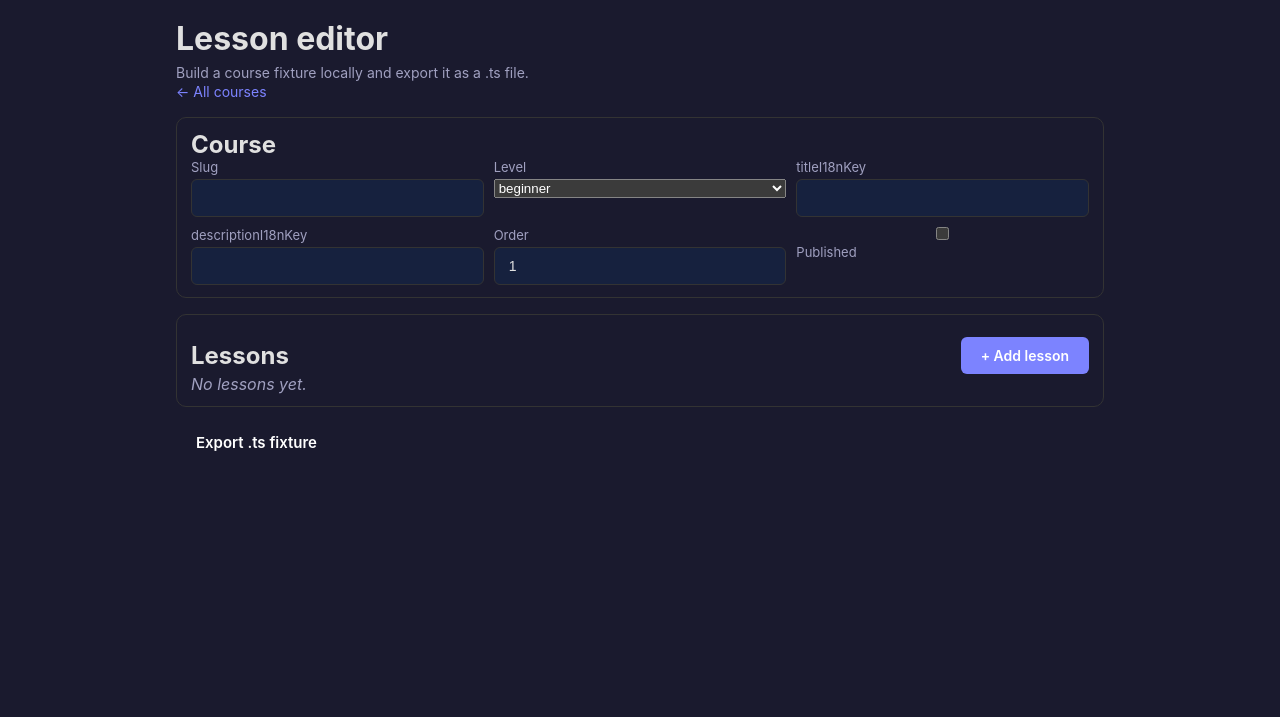
Test: <LessonEditorPage> › добавление шага → появляется StepEditor
The image size is (1280, 717).
Click the button with test id "editor-add-lesson" at (1025, 356), box [961,337,1089,374]
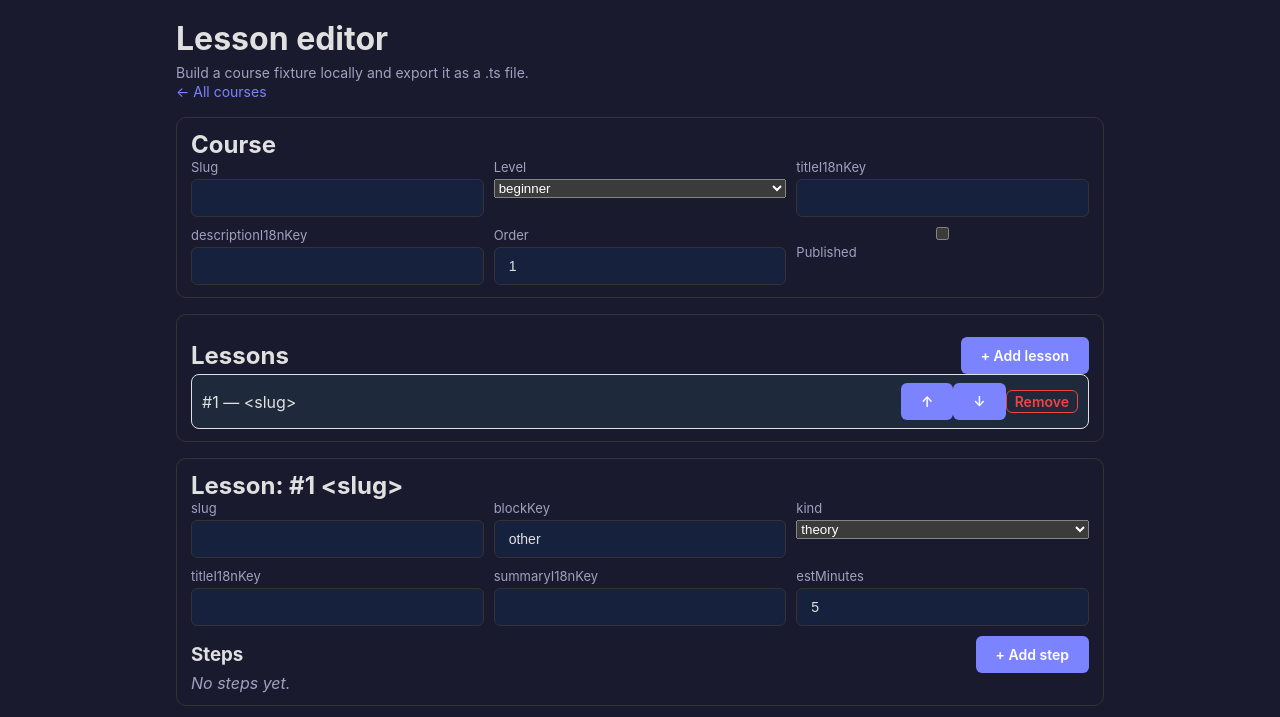
Click the button with test id "editor-add-step" at (1032, 654), box [976,636,1089,673]
(page scrolled)
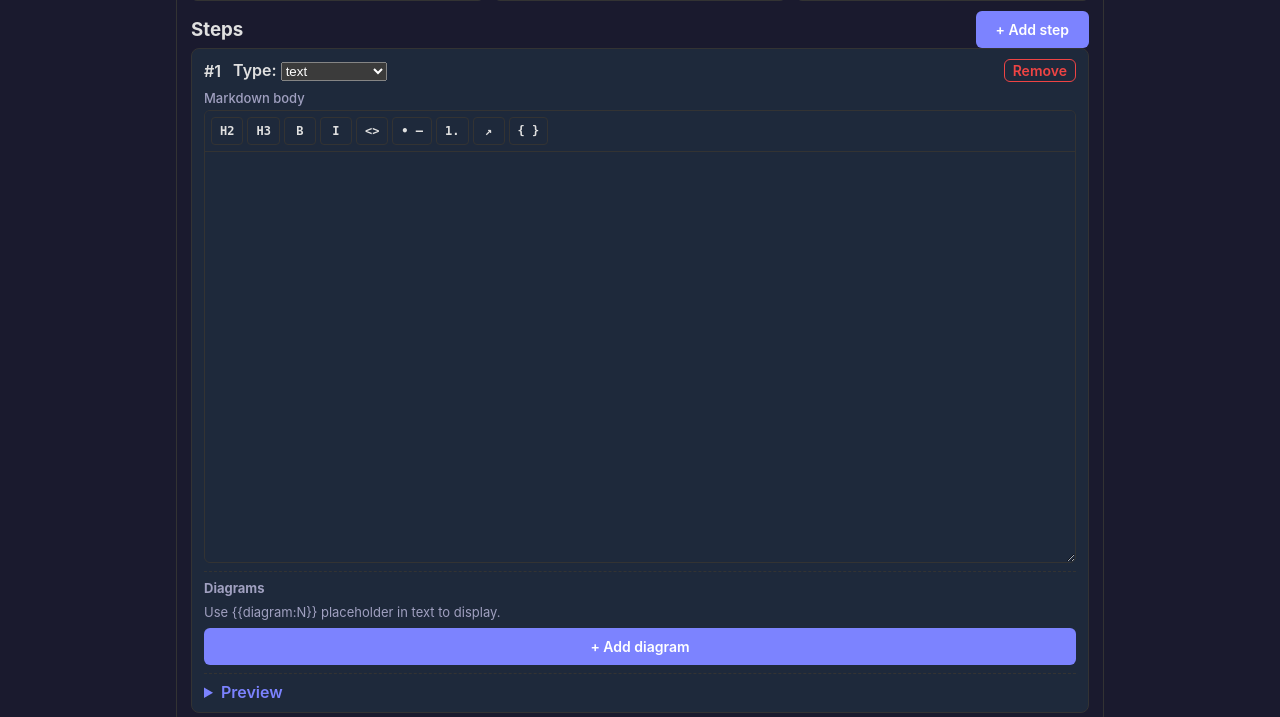
Result: the text box with test id "editor-step-text-body" is shown at [205,152,1075,562]
